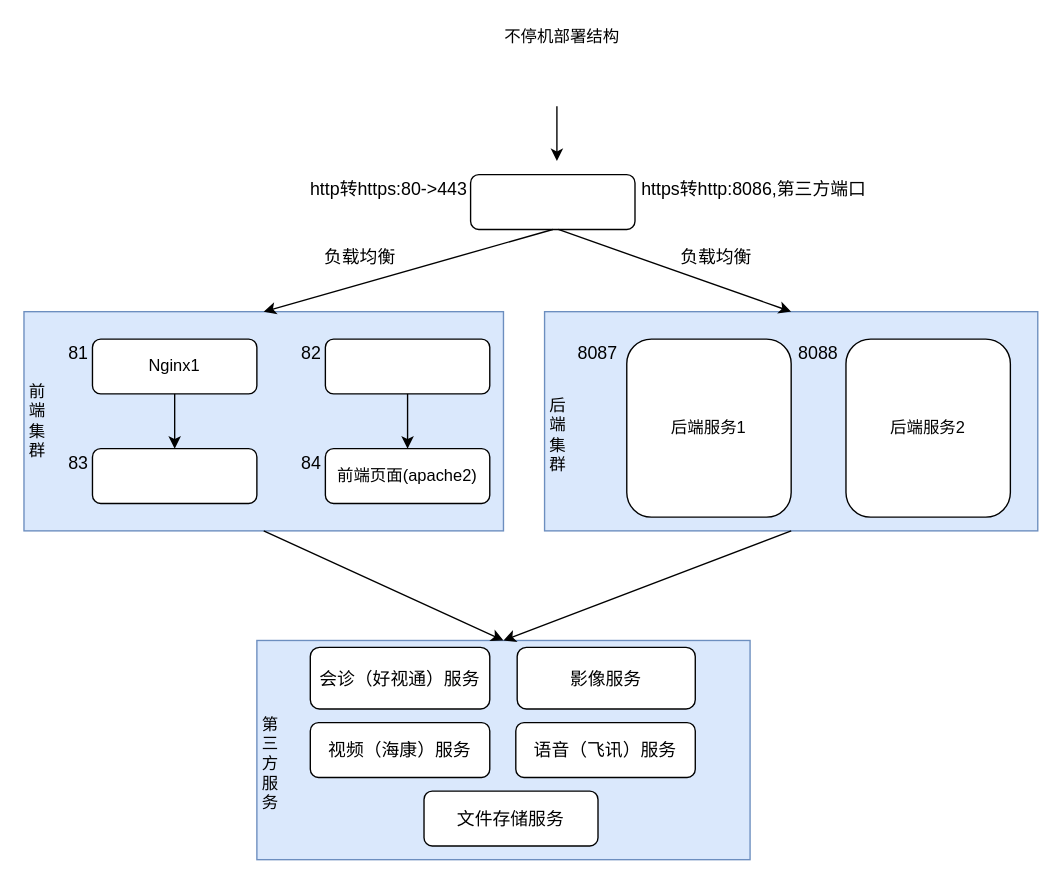
This 1062x884 diagram has some shape labels left out. The box of each missing label's shape, as (x1, y1, x2, y2) in pixels:
Nginx: (469, 173, 635, 229)
Nginx2: (324, 338, 490, 394)
前端页面(apache1): (91, 447, 257, 503)
